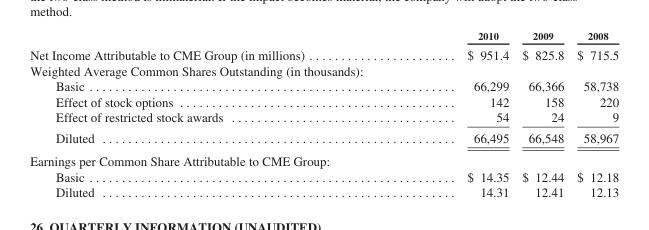table: (29, 28, 618, 199)
table column: (29, 28, 385, 199), (385, 28, 514, 199), (514, 28, 569, 199), (569, 28, 618, 199)
table column header: (29, 28, 618, 44)
table projected row header: (29, 149, 618, 168), (29, 62, 618, 78)
table row: (29, 127, 618, 149), (29, 149, 618, 168), (29, 44, 618, 62), (29, 109, 618, 127), (29, 28, 618, 44), (29, 62, 618, 78), (29, 93, 618, 109), (29, 168, 618, 184), (29, 78, 618, 93), (29, 184, 618, 199)
